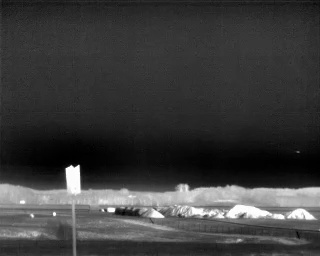BIRD: (295, 148, 301, 155)
